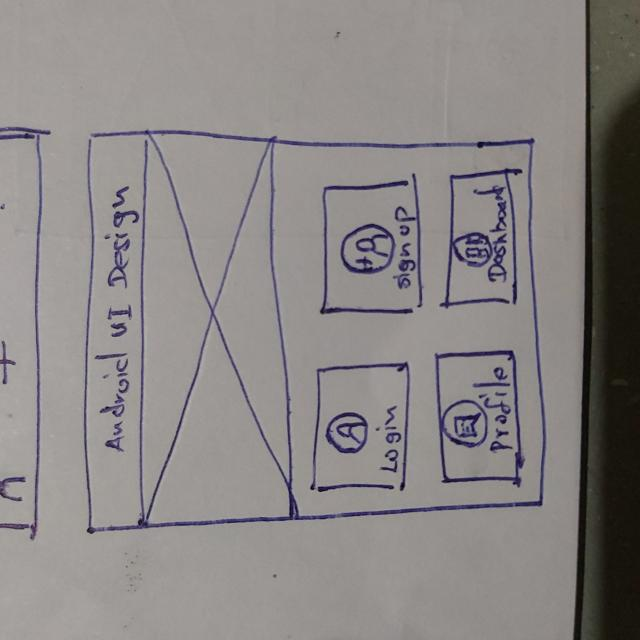AppBar: (84, 130, 147, 533)
Button: (321, 181, 425, 313), (311, 361, 410, 492), (434, 349, 524, 484), (445, 169, 520, 307)
Icon: (340, 224, 395, 277), (442, 399, 489, 448), (324, 409, 370, 453), (454, 229, 495, 271)
Image: (142, 132, 297, 523)
MainLayout: (81, 127, 550, 532)
TextView: (101, 181, 134, 462), (480, 364, 516, 468), (487, 183, 510, 283), (393, 205, 415, 294), (382, 403, 400, 477)
